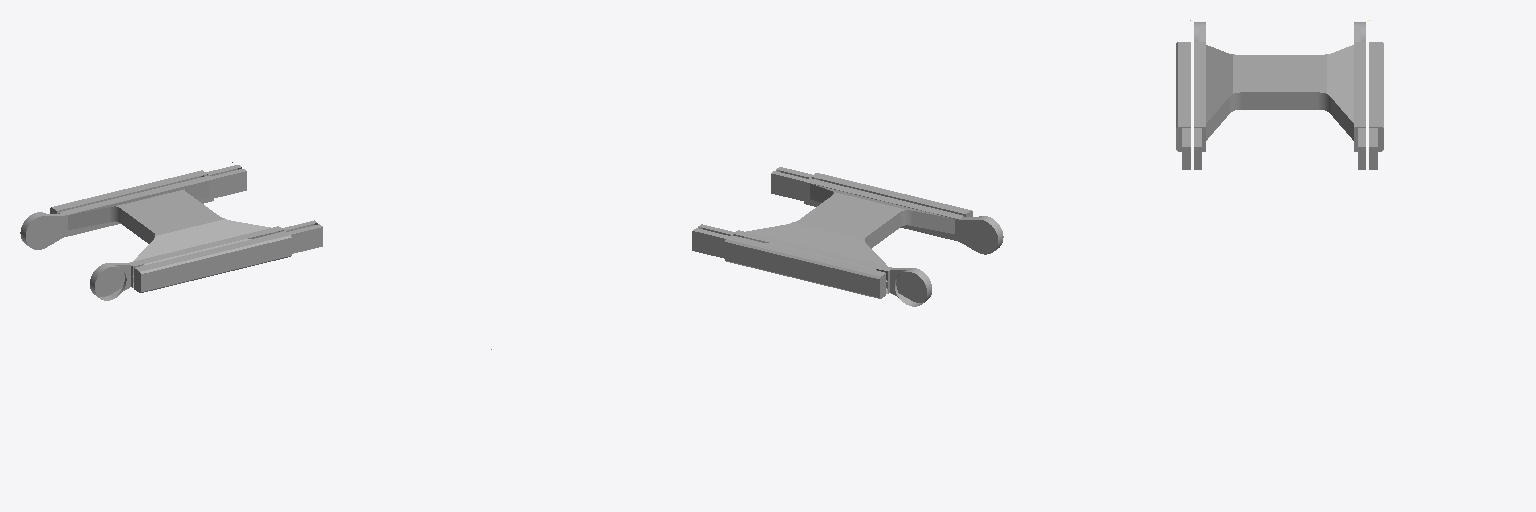
URDF robot description (zx135u):
<?xml version="1.0" encoding="utf-8"?>
<!-- =================================================================================== -->
<!-- |    This document was autogenerated by xacro from zx135u.xacro                   | -->
<!-- |    EDITING THIS FILE BY HAND IS NOT RECOMMENDED                                 | -->
<!-- =================================================================================== -->
<robot name="zx135u">
  <!-- Inertia is calculated as slender rod in https://en.wikipedia.org/wiki/List_of_moments_of_inertia#List_of_3D_inertia_tensors -->
  <link name="base_link"/>
  <link name="track_body_link">
    <visual>
      <geometry>
        <mesh filename="package://excavator_model/mesh/meshbody39_rviz.stl"/>
      </geometry>
      <origin rpy="0 0 0" xyz="0 0 0"/>
      <material name="Gray">
        <color rgba="0.7 0.7 0.7 1.0"/>
      </material>
    </visual>
    <inertial>
      <mass value="2.0"/>
      <inertia ixx="1" ixy="0.0" ixz="0.0" iyy="1" iyz="0.0" izz="1"/>
    </inertial>
  </link>
  <joint name="track_body_joint" type="fixed">
    <origin rpy="0 0 0" xyz="0 0 0"/>
    <parent link="base_link"/>
    <child link="track_body_link"/>
    <axis xyz="0 0 1"/>
  </joint>
  <joint name="left_front_wheel_joint" type="continuous">
    <origin rpy="-1.57079632679 0 0" xyz="0 1 0.6"/>
    <parent link="track_body_link"/>
    <child link="left_front_wheel_link"/>
    <axis xyz="0 0 1"/>
  </joint>
  <transmission name="left_front_wheel_trans" type="SimpleTransmission">
    <type>transmission_interface/SimpleTransmission</type>
    <actuator name="left_front_wheel_motor">
      <mechanicalReduction>1</mechanicalReduction>
    </actuator>
    <joint name="left_front_wheel_joint">
      <hardwareInterface>hardware_interface/VelocityJointInterface</hardwareInterface>
    </joint>
  </transmission>
  <link name="left_front_wheel_link">
    <inertial>
      <origin rpy="0 0 0" xyz="0 0 0"/>
      <mass value="0.1"/>
      <inertia ixx="0.0001" ixy="0.0" ixz="0.0" iyy="0.0001" iyz="0.0" izz="0.0001"/>
    </inertial>
    <visual>
      <geometry>
        <cylinder length="0.001" radius="0.001"/>
      </geometry>
      <!--material name="red"/-->
    </visual>
    <collision>
      <geometry>
        <cylinder length="0.6" radius="0.6"/>
      </geometry>
    </collision>
  </link>
  <gazebo reference="left_front_wheel_link">
    <!--material>Gazebo/Red</material-->
    <mu1 value="2.5"/>
    <mu2 value="2.5"/>
    <kp value="50000"/>
    <kd value="10"/>
  </gazebo>
  <joint name="left_middle_wheel_joint" type="continuous">
    <origin rpy="-1.57079632679 0 0" xyz="-1.5 1 0.6"/>
    <parent link="track_body_link"/>
    <child link="left_middle_wheel_link"/>
    <axis xyz="0 0 1"/>
  </joint>
  <transmission name="left_middle_wheel_trans" type="SimpleTransmission">
    <type>transmission_interface/SimpleTransmission</type>
    <actuator name="left_middle_wheel_motor">
      <mechanicalReduction>1</mechanicalReduction>
    </actuator>
    <joint name="left_middle_wheel_joint">
      <hardwareInterface>hardware_interface/VelocityJointInterface</hardwareInterface>
    </joint>
  </transmission>
  <link name="left_middle_wheel_link">
    <inertial>
      <origin rpy="0 0 0" xyz="0 0 0"/>
      <mass value="0.1"/>
      <inertia ixx="0.0001" ixy="0.0" ixz="0.0" iyy="0.0001" iyz="0.0" izz="0.0001"/>
    </inertial>
    <visual>
      <geometry>
        <cylinder length="0.001" radius="0.001"/>
      </geometry>
      <!--material name="red"/-->
    </visual>
    <collision>
      <geometry>
        <cylinder length="0.6" radius="0.6"/>
      </geometry>
    </collision>
  </link>
  <gazebo reference="left_middle_wheel_link">
    <!--material>Gazebo/Red</material-->
    <mu1 value="2.5"/>
    <mu2 value="2.5"/>
    <kp value="50000"/>
    <kd value="10"/>
  </gazebo>
  <joint name="left_rear_wheel_joint" type="continuous">
    <origin rpy="-1.57079632679 0 0" xyz="1.5 1 0.6"/>
    <parent link="track_body_link"/>
    <child link="left_rear_wheel_link"/>
    <axis xyz="0 0 1"/>
  </joint>
  <transmission name="left_rear_wheel_trans" type="SimpleTransmission">
    <type>transmission_interface/SimpleTransmission</type>
    <actuator name="left_rear_wheel_motor">
      <mechanicalReduction>1</mechanicalReduction>
    </actuator>
    <joint name="left_rear_wheel_joint">
      <hardwareInterface>hardware_interface/VelocityJointInterface</hardwareInterface>
    </joint>
  </transmission>
  <link name="left_rear_wheel_link">
    <inertial>
      <origin rpy="0 0 0" xyz="0 0 0"/>
      <mass value="0.1"/>
      <inertia ixx="0.0001" ixy="0.0" ixz="0.0" iyy="0.0001" iyz="0.0" izz="0.0001"/>
    </inertial>
    <visual>
      <geometry>
        <cylinder length="0.001" radius="0.001"/>
      </geometry>
      <!--material name="red"/-->
    </visual>
    <collision>
      <geometry>
        <cylinder length="0.6" radius="0.6"/>
      </geometry>
    </collision>
  </link>
  <gazebo reference="left_rear_wheel_link">
    <!--material>Gazebo/Red</material-->
    <mu1 value="2.5"/>
    <mu2 value="2.5"/>
    <kp value="50000"/>
    <kd value="10"/>
  </gazebo>
  <joint name="right_front_wheel_joint" type="continuous">
    <origin rpy="-1.57079632679 0 0" xyz="0 -1 0.6"/>
    <parent link="track_body_link"/>
    <child link="right_front_wheel_link"/>
    <axis xyz="0 0 1"/>
  </joint>
  <transmission name="right_front_wheel_trans" type="SimpleTransmission">
    <type>transmission_interface/SimpleTransmission</type>
    <actuator name="right_front_wheel_motor">
      <mechanicalReduction>1</mechanicalReduction>
    </actuator>
    <joint name="right_front_wheel_joint">
      <hardwareInterface>hardware_interface/VelocityJointInterface</hardwareInterface>
    </joint>
  </transmission>
  <link name="right_front_wheel_link">
    <inertial>
      <origin rpy="0 0 0" xyz="0 0 0"/>
      <mass value="0.1"/>
      <inertia ixx="0.0001" ixy="0.0" ixz="0.0" iyy="0.0001" iyz="0.0" izz="0.0001"/>
    </inertial>
    <visual>
      <geometry>
        <cylinder length="0.001" radius="0.001"/>
      </geometry>
      <!--material name="red"/-->
    </visual>
    <collision>
      <geometry>
        <cylinder length="0.6" radius="0.6"/>
      </geometry>
    </collision>
  </link>
  <gazebo reference="right_front_wheel_link">
    <!--material>Gazebo/Red</material-->
    <mu1 value="2.5"/>
    <mu2 value="2.5"/>
    <kp value="50000"/>
    <kd value="10"/>
  </gazebo>
  <joint name="right_middle_wheel_joint" type="continuous">
    <origin rpy="-1.57079632679 0 0" xyz="-1.5 -1 0.6"/>
    <parent link="track_body_link"/>
    <child link="right_middle_wheel_link"/>
    <axis xyz="0 0 1"/>
  </joint>
  <transmission name="right_middle_wheel_trans" type="SimpleTransmission">
    <type>transmission_interface/SimpleTransmission</type>
    <actuator name="right_middle_wheel_motor">
      <mechanicalReduction>1</mechanicalReduction>
    </actuator>
    <joint name="right_middle_wheel_joint">
      <hardwareInterface>hardware_interface/VelocityJointInterface</hardwareInterface>
    </joint>
  </transmission>
  <link name="right_middle_wheel_link">
    <inertial>
      <origin rpy="0 0 0" xyz="0 0 0"/>
      <mass value="0.1"/>
      <inertia ixx="0.0001" ixy="0.0" ixz="0.0" iyy="0.0001" iyz="0.0" izz="0.0001"/>
    </inertial>
    <visual>
      <geometry>
        <cylinder length="0.001" radius="0.001"/>
      </geometry>
      <!--material name="red"/-->
    </visual>
    <collision>
      <geometry>
        <cylinder length="0.6" radius="0.6"/>
      </geometry>
    </collision>
  </link>
  <gazebo reference="right_middle_wheel_link">
    <!--material>Gazebo/Red</material-->
    <mu1 value="2.5"/>
    <mu2 value="2.5"/>
    <kp value="50000"/>
    <kd value="10"/>
  </gazebo>
  <joint name="right_rear_wheel_joint" type="continuous">
    <origin rpy="-1.57079632679 0 0" xyz="1.5 -1 0.6"/>
    <parent link="track_body_link"/>
    <child link="right_rear_wheel_link"/>
    <axis xyz="0 0 1"/>
  </joint>
  <transmission name="right_rear_wheel_trans" type="SimpleTransmission">
    <type>transmission_interface/SimpleTransmission</type>
    <actuator name="right_rear_wheel_motor">
      <mechanicalReduction>1</mechanicalReduction>
    </actuator>
    <joint name="right_rear_wheel_joint">
      <hardwareInterface>hardware_interface/VelocityJointInterface</hardwareInterface>
    </joint>
  </transmission>
  <link name="right_rear_wheel_link">
    <inertial>
      <origin rpy="0 0 0" xyz="0 0 0"/>
      <mass value="0.1"/>
      <inertia ixx="0.0001" ixy="0.0" ixz="0.0" iyy="0.0001" iyz="0.0" izz="0.0001"/>
    </inertial>
    <visual>
      <geometry>
        <cylinder length="0.001" radius="0.001"/>
      </geometry>
      <!--material name="red"/-->
    </visual>
    <collision>
      <geometry>
        <cylinder length="0.6" radius="0.6"/>
      </geometry>
    </collision>
  </link>
  <gazebo reference="right_rear_wheel_link">
    <!--material>Gazebo/Red</material-->
    <mu1 value="2.5"/>
    <mu2 value="2.5"/>
    <kp value="50000"/>
    <kd value="10"/>
  </gazebo>
  <!-- Track Model and Joint Definition-->
  <link name="track_link">
    <visual>
      <geometry>
        <mesh filename="package://excavator_model/mesh/meshbody38_rviz.stl"/>
      </geometry>
      <origin rpy="0 0 0" xyz="0 0 0"/>
      <material name="Black">
        <color rgba="0.0 0.0 0.0 1.0"/>
      </material>
    </visual>
    <inertial>
      <mass value="1"/>
      <inertia ixx="1" ixy="0.0" ixz="0.0" iyy="1" iyz="0.0" izz="1"/>
    </inertial>
  </link>
  <joint name="track_joint" type="fixed">
    <parent link="base_link"/>
    <child link="track_link"/>
    <origin xyz="0 0 0"/>
  </joint>
  <gazebo reference="track_link">
    <material>Gazebo/Black</material>
    <turnGravityOff>True</turnGravityOff>
  </gazebo>
  <!-- Rotator Model and Joint Definition-->
  <link name="rotator_link">
    <visual>
      <geometry>
        <mesh filename="package://excavator_model/mesh/meshbody1_rviz.stl"/>
      </geometry>
      <origin rpy="0 0 0" xyz="0 0 0"/>
      <material name="Gray">
        <color rgba="0.7 0.7 0.7 1.0"/>
      </material>
    </visual>
    <inertial>
      <mass value="1"/>
      <!-- inertia ixx="${(boom_mass*4.6*4.6)/3}" ixy="0.0" ixz="0.0" iyy="0.0" iyz="0.0" izz="${(boom_mass*4.6*4.6)/3}"/ -->
      <inertia ixx="1" ixy="0.0" ixz="0.0" iyy="1" iyz="0.0" izz="1"/>
    </inertial>
  </link>
  <joint name="rotator_joint" type="continuous">
    <parent link="base_link"/>
    <child link="rotator_link"/>
    <axis xyz="0 0 1"/>
    <origin xyz="0 0 0.643"/>
    <!-- limit effort="100" lower="${-70/180*PI}" upper="${44/180*PI}" velocity="5"/-->
  </joint>
  <!-- upper Model and Joint Definition-->
  <link name="upper_link">
    <visual>
      <geometry>
        <mesh filename="package://excavator_model/mesh/meshbody12-18_rviz.stl"/>
      </geometry>
      <origin rpy="0 0 0" xyz="0 0 0"/>
      <material name="Orange">
        <color rgba="0.97 0.41 0.05 1"/>
      </material>
    </visual>
    <inertial>
      <mass value="1"/>
      <inertia ixx="1" ixy="0.0" ixz="0.0" iyy="1" iyz="0.0" izz="1"/>
    </inertial>
  </link>
  <joint name="upper_joint" type="fixed">
    <parent link="rotator_link"/>
    <child link="upper_link"/>
    <origin xyz="0 0 0.249"/>
  </joint>
  <gazebo reference="upper_link">
    <material>Gazebo/Orange</material>
    <turnGravityOff>True</turnGravityOff>
  </gazebo>
  <!-- cabin Model and Joint Definition-->
  <link name="cabin_link">
    <visual>
      <geometry>
        <mesh filename="package://excavator_model/mesh/meshbody10_rviz.stl"/>
      </geometry>
      <origin rpy="0 0 0" xyz="0 0 0"/>
      <material name="Black">
        <color rgba="0 0 0 1.0"/>
      </material>
    </visual>
    <visual>
      <geometry>
        <mesh filename="package://excavator_model/mesh/meshbody2-8_rviz.stl"/>
      </geometry>
      <origin rpy="0 0 0" xyz="0 0 0"/>
      <material name="White">
        <color rgba="1.0 1.0 1.0 1.0"/>
      </material>
    </visual>
  </link>
  <joint name="cabin_joint" type="fixed">
    <parent link="upper_link"/>
    <child link="cabin_link"/>
    <origin xyz="0 0 0.2"/>
  </joint>
  <gazebo reference="cabin_link">
    <turnGravityOff>True</turnGravityOff>
  </gazebo>
  <!-- boom Model and Joint Definition-->
  <link name="boom_link">
    <visual>
      <geometry>
        <mesh filename="package://excavator_model/mesh/meshbody19_rviz.stl" scale="1.115 1.115 1.115"/>
      </geometry>
      <origin rpy="0 -1.54579632675 0" xyz="0 0 0"/>
      <material name="Orange">
        <color rgba="0.97 0.41 0.05 1"/>
      </material>
    </visual>
    <inertial>
      <mass value="1"/>
      <inertia ixx="7.05333333333" ixy="0.0" ixz="0.0" iyy="0.0" iyz="0.0" izz="7.05333333333"/>
    </inertial>
  </link>
  <joint name="boom_joint" type="revolute">
    <parent link="upper_link"/>
    <child link="boom_link"/>
    <axis xyz="0 1 0"/>
    <origin rpy="0 1.57079632675 0" xyz="0.14 -0.16 0.532"/>
    <limit effort="1" lower="-1.22173047636" upper="0.767944870856" velocity="0.5"/>
  </joint>
  <gazebo reference="boom_link">
    <material>Gazebo/Orange</material>
    <turnGravityOff>True</turnGravityOff>
  </gazebo>
  <!-- arm Model and Joint Definition-->
  <link name="arm_link">
    <visual>
      <geometry>
        <mesh filename="package://excavator_model/mesh/meshbody26_rviz.stl" scale="1.17 1.17 1.17"/>
      </geometry>
      <origin rpy="0 2.08439510233 0" xyz="-0.3 0 -0.55"/>
      <material name="Orange">
        <color rgba="0.97 0.41 0.05 1"/>
      </material>
    </visual>
    <inertial>
      <mass value="1"/>
      <inertia ixx="7.05333333333" ixy="0.0" ixz="0.0" iyy="0.0" iyz="0.0" izz="7.05333333333"/>
    </inertial>
  </link>
  <joint name="arm_joint" type="revolute">
    <parent link="boom_link"/>
    <child link="arm_link"/>
    <axis xyz="0 1 0"/>
    <origin rpy="0 0 0" xyz="0 0 4.6"/>
    <limit effort="1" lower="0.523598775583" upper="2.65290046296" velocity="0.5"/>
  </joint>
  <gazebo reference="arm_link">
    <material>Gazebo/Orange</material>
    <turnGravityOff>True</turnGravityOff>
  </gazebo>
  <!-- backet Model and Joint Definition-->
  <link name="backet_link">
    <visual>
      <geometry>
        <mesh filename="package://excavator_model/mesh/meshbody24_rviz.stl" scale="0.99 0.99 0.99"/>
      </geometry>
      <origin rpy="0 -0.441598775583 0" xyz="-0.1 0 -0.05"/>
      <material name="Orange">
        <color rgba="0.97 0.41 0.05 1"/>
      </material>
    </visual>
    <inertial>
      <mass value="1"/>
      <inertia ixx="7.05333333333" ixy="0.0" ixz="0.0" iyy="0.0" iyz="0.0" izz="7.05333333333"/>
    </inertial>
  </link>
  <joint name="backet_joint" type="revolute">
    <parent link="arm_link"/>
    <child link="backet_link"/>
    <axis xyz="0 1 0"/>
    <origin rpy="0 0 0" xyz="0 0 2.519"/>
    <limit effort="1" lower="-0.575958653142" upper="2.49582083028" velocity="0.5"/>
  </joint>
  <!-- backet end Model and Joint Definition-->
  <link name="backet_end_link">
    <visual>
      <origin rpy="0 0 0" xyz="0 0 0"/>
      <geometry>
        <box size="0.001 0.001 0.001"/>
      </geometry>
      <material name="red"/>
    </visual>
    <inertial>
      <origin xyz="0 0 0"/>
      <mass value="1.0e-03"/>
      <inertia ixx="1.0e-03" ixy="0.0" ixz="0.0" iyy="1.0e-03" iyz="0.0" izz="1.0e-03"/>
    </inertial>
  </link>
  <joint name="backet_end_joint" type="revolute">
    <parent link="backet_link"/>
    <child link="backet_end_link"/>
    <axis xyz="1 0 0"/>
    <origin rpy="0 0 0" xyz="0 0 1.23"/>
    <limit effort="1" lower="-3.14" upper="3.14" velocity="0.5"/>
  </joint>
  <gazebo reference="backet_link">
    <material>Gazebo/Orange</material>
    <turnGravityOff>True</turnGravityOff>
  </gazebo>
  <transmission name="rotator_trans">
    <type>transmission_interface/SimpleTransmission</type>
    <joint name="rotator_joint">
      <hardwareInterface>hardware_interface/PositionJointInterface</hardwareInterface>
    </joint>
    <actuator name="rotator_motor">
      <hardwareInterface>hardware_interface/PositionJointInterface</hardwareInterface>
      <mechanicalReduction>1</mechanicalReduction>
    </actuator>
  </transmission>
  <transmission name="boom_trans">
    <type>transmission_interface/SimpleTransmission</type>
    <joint name="boom_joint">
      <hardwareInterface>hardware_interface/PositionJointInterface</hardwareInterface>
    </joint>
    <actuator name="boom_motor">
      <hardwareInterface>hardware_interface/PositionJointInterface</hardwareInterface>
      <mechanicalReduction>1</mechanicalReduction>
    </actuator>
  </transmission>
  <transmission name="arm_trans">
    <type>transmission_interface/SimpleTransmission</type>
    <joint name="arm_joint">
      <hardwareInterface>hardware_interface/PositionJointInterface</hardwareInterface>
    </joint>
    <actuator name="arm_motor">
      <hardwareInterface>hardware_interface/PositionJointInterface</hardwareInterface>
      <mechanicalReduction>1</mechanicalReduction>
    </actuator>
  </transmission>
  <transmission name="backet_trans">
    <type>transmission_interface/SimpleTransmission</type>
    <joint name="backet_joint">
      <hardwareInterface>hardware_interface/PositionJointInterface</hardwareInterface>
    </joint>
    <actuator name="backet_motor">
      <hardwareInterface>hardware_interface/PositionJointInterface</hardwareInterface>
      <mechanicalReduction>1</mechanicalReduction>
    </actuator>
  </transmission>
  <transmission name="dummy_trans1">
    <type>transmission_interface/SimpleTransmission</type>
    <joint name="backet_end_joint">
      <hardwareInterface>hardware_interface/PositionJointInterface</hardwareInterface>
    </joint>
    <actuator name="dummy_motor1">
      <hardwareInterface>hardware_interface/PositionJointInterface</hardwareInterface>
      <mechanicalReduction>1</mechanicalReduction>
    </actuator>
  </transmission>
  <gazebo>
    <plugin filename="libgazebo_ros_control.so" name="gazebo_ros_control">
      <robotNamespace>/zx135u</robotNamespace>
      <robotSimType>gazebo_ros_control/DefaultRobotHWSim</robotSimType>
      <legacyModeNS>true</legacyModeNS>
    </plugin>
  </gazebo>
</robot>

--- Facts derived from the render (not from the file) ---
Views: 3 orthographic renders of the robot side by side, from view 1: azimuth 30°, elevation 25°; view 2: azimuth 150°, elevation 25°; view 3: azimuth 270°, elevation 25°.
Model zx135u with 16 links and 15 joints (4 revolute, 7 continuous, 4 fixed), rooted at base_link, posed joints at zero except 1 at the middle of their limits (arm_joint = 1.59).
Links seen in each view (by area): view 1: track_body_link; view 2: track_body_link; view 3: track_body_link.
Boxes of the visible links, left/top/right/bottom form: track_body_link: left=20, top=165, right=322, bottom=300; track_body_link: left=692, top=167, right=1003, bottom=306; track_body_link: left=1176, top=22, right=1383, bottom=169.
Bounding box of the posed robot: 6.35 × 2.33 × 2.97 m (x, y, z).
Meshes: 9 distinct files referenced, 1 mesh visuals loaded (1 binary STL); not drawn: 8 (reference not matched to a file when rendering).
